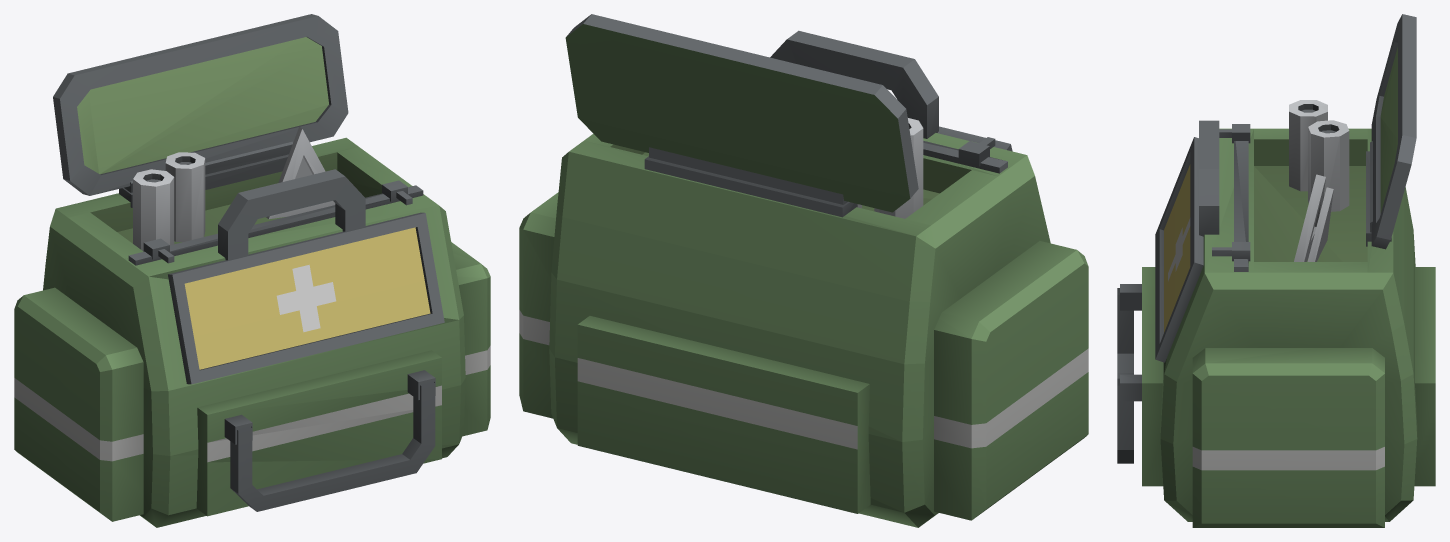
The model's file is medbag.glb.
The picture shows the model from 3 angles, left to right: view 1: azimuth 30°, elevation 25°; view 2: azimuth 150°, elevation 25°; view 3: azimuth 270°, elevation 25°; orthographic projection. The views are drawn at different scales.
Visible parts, largest first — view 1: medbag; view 2: medbag; view 3: medbag.
Boxes of the visible parts, <box> form: medbag: <box>14,14,490,527</box>; medbag: <box>519,14,1088,527</box>; medbag: <box>1117,14,1435,527</box>.
Bounding box in the file's own units: 0.65 × 0.5873 × 0.4511.
